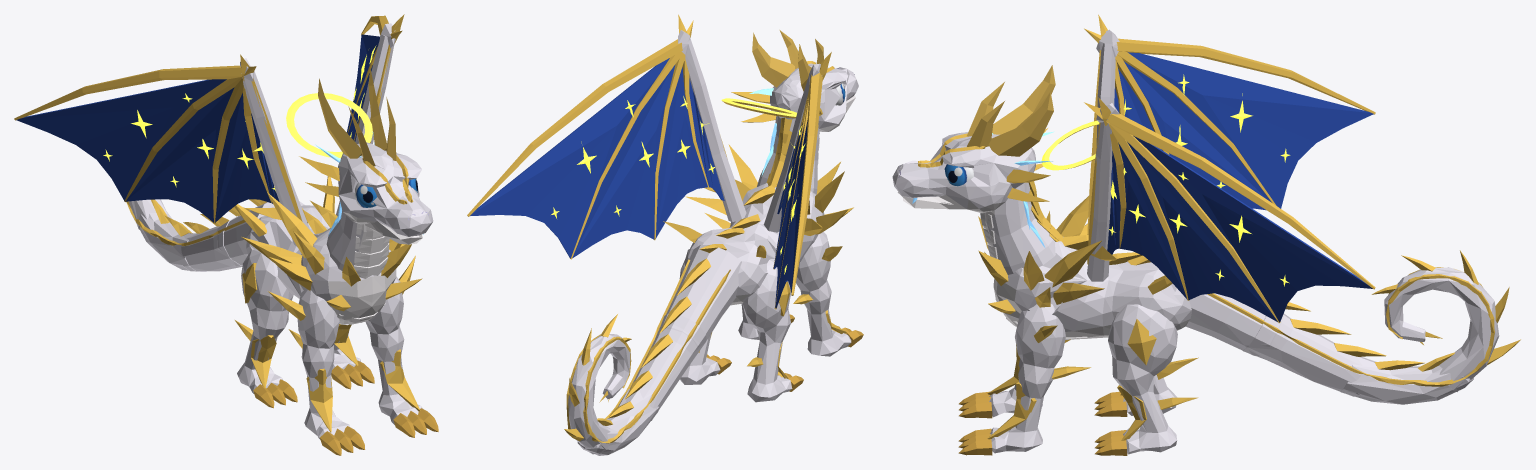
Rendered from aurora_adult.glb.
3 views of the same model, side by side, from view 1: azimuth 30°, elevation 25°; view 2: azimuth 150°, elevation 25°; view 3: azimuth 270°, elevation 25° (orthographic). The views are drawn at different scales.
Visible parts, largest first — view 1: wing_R_tip, body, head, leg_FR, leg_BR, leg_FL, wing_R, neck, tail_2, tail_3, wing_L_tip, leg_BL (+5 smaller); view 2: wing_L_tip, body, head, wing_R_tip, tail_1, tail_4, leg_BR, leg_FR, tail_2, wing_L, tail_3, neck (+4 smaller); view 3: wing_L_tip, wing_R_tip, body, head, leg_BL, tail_4, leg_FL, tail_2, neck, tail_3, tail_1, wing_L (+4 smaller).
Boxes of the visible parts, x1,y1,x2,y2 form: wing_R_tip: (14, 54, 274, 223); body: (234, 176, 422, 325); head: (299, 68, 433, 236); leg_FR: (268, 289, 365, 455); leg_BR: (235, 248, 297, 408); leg_FL: (365, 255, 438, 437); wing_R: (241, 71, 310, 246); neck: (326, 202, 389, 278); tail_2: (178, 214, 242, 271); tail_3: (131, 199, 206, 271); wing_L_tip: (346, 14, 404, 141); leg_BL: (331, 324, 374, 389); wing_L_tip: (467, 14, 712, 259); body: (663, 144, 853, 305); head: (731, 30, 858, 131); wing_R_tip: (773, 52, 831, 309); tail_1: (653, 244, 741, 347); tail_4: (564, 314, 631, 454); leg_BR: (742, 259, 803, 402); leg_FR: (793, 231, 863, 356); tail_2: (620, 313, 706, 420); wing_L: (685, 39, 746, 222); tail_3: (577, 389, 658, 455); neck: (757, 116, 819, 194); wing_L_tip: (1084, 97, 1375, 323); wing_R_tip: (1084, 14, 1375, 210); body: (978, 195, 1191, 339); head: (892, 65, 1055, 213); leg_BL: (1095, 304, 1198, 455); tail_4: (1371, 250, 1520, 391); leg_FL: (958, 304, 1090, 455); tail_2: (1243, 313, 1386, 396); neck: (980, 181, 1062, 274); tail_3: (1341, 352, 1473, 404); tail_1: (1185, 293, 1310, 356); wing_L: (1087, 119, 1116, 281).
Bounding box in the file's own units: 17.95 × 17.77 × 27.07.
11 materials, 1 textured.
